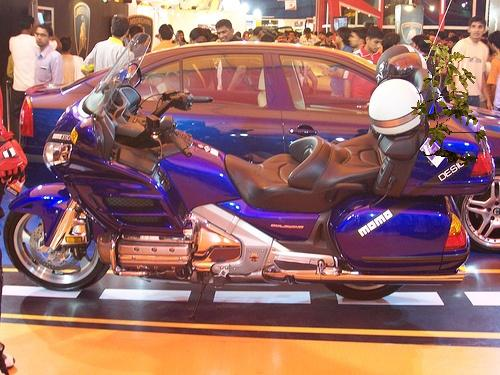tampered: (412, 41, 486, 167)
